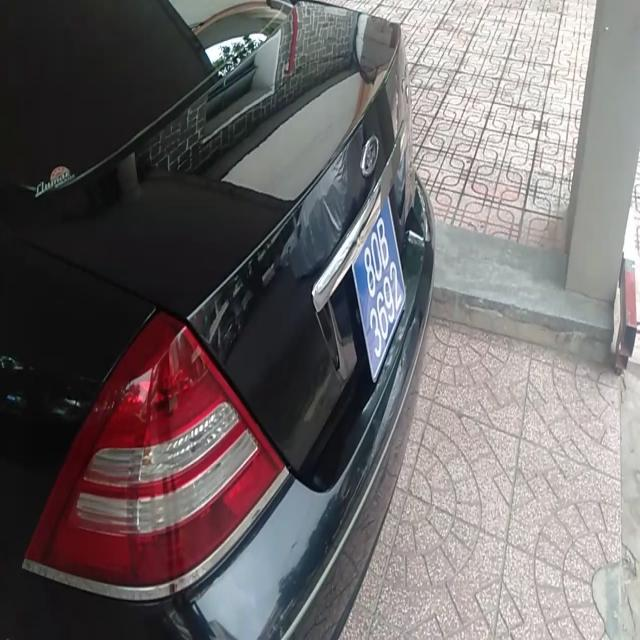bien_xanh: (350, 192, 407, 385)
